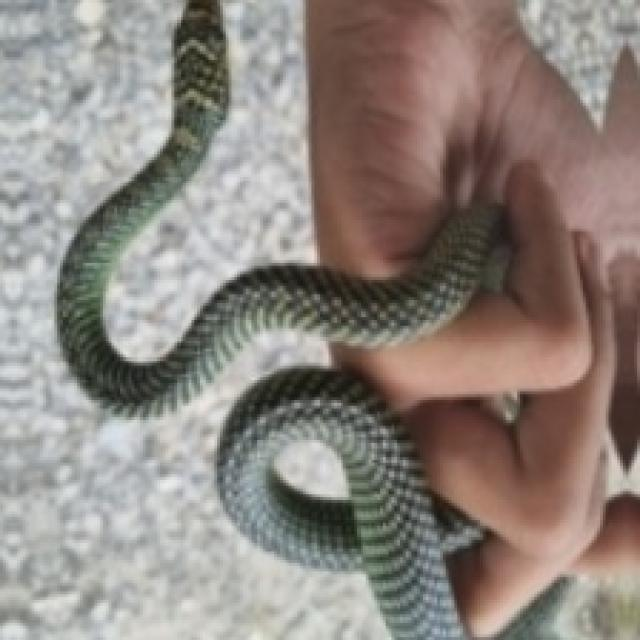paradise tree snake: (57, 0, 637, 634), (220, 371, 454, 637), (603, 51, 637, 226)
